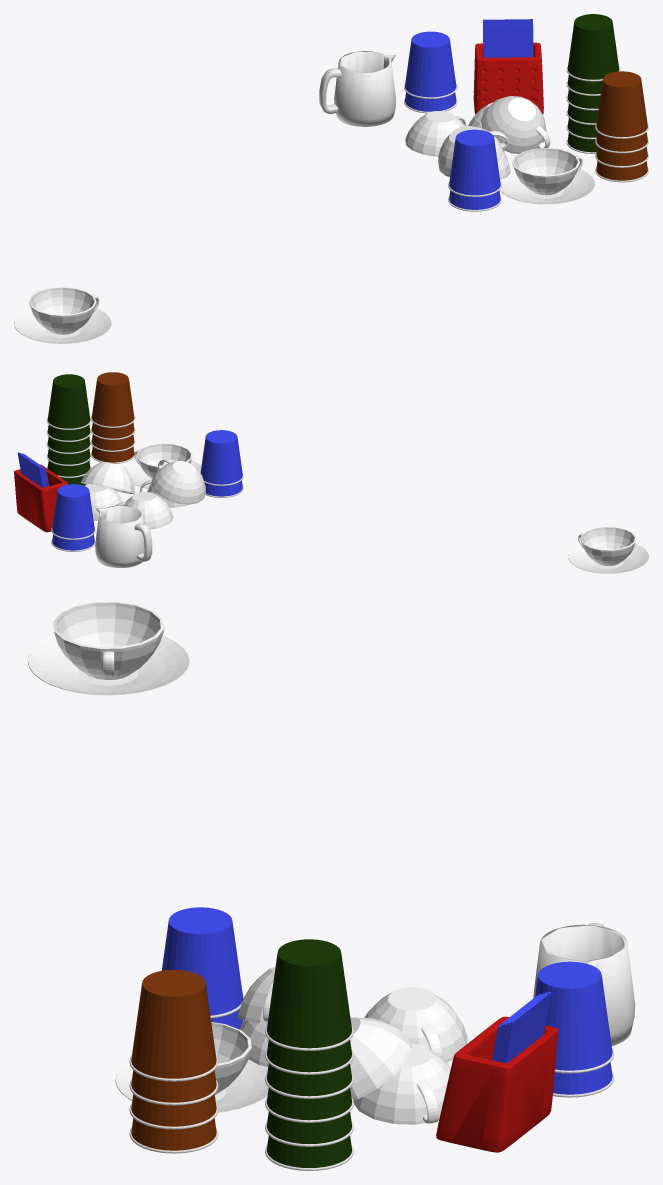
File: REF_Varios_Cafetera2.obj
3 renders of one model, top to bottom at view 1: azimuth 30°, elevation 25°; view 2: azimuth 150°, elevation 25°; view 3: azimuth 270°, elevation 25°, orthographic. The views are drawn at different scales.
Parts seen in each view (by area): view 1: REF_Varios_Cafetera2; view 2: REF_Varios_Cafetera2; view 3: REF_Varios_Cafetera2.
Part boxes in pixels (bbox=[...]): REF_Varios_Cafetera2: bbox=[14, 14, 648, 343]; REF_Varios_Cafetera2: bbox=[14, 372, 648, 573]; REF_Varios_Cafetera2: bbox=[27, 602, 635, 1170].
Bounding box in the file's own units: 1.03 × 0.1866 × 0.4998.
